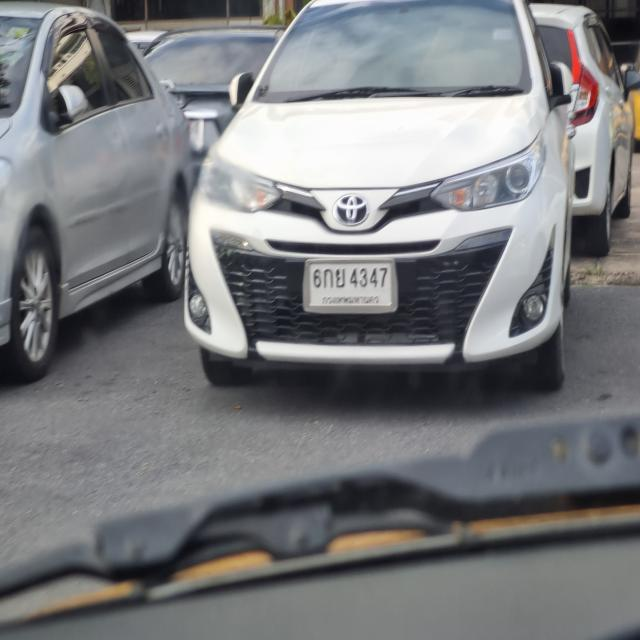license_plate: (302, 254, 400, 315)
